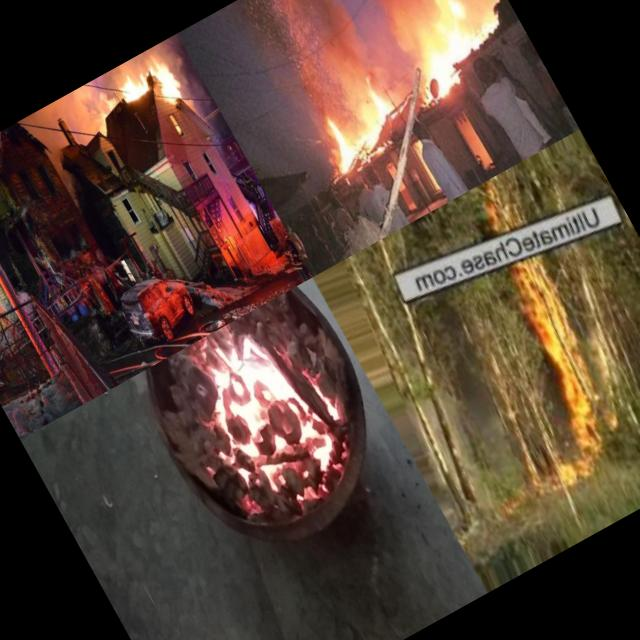fire: (160, 296, 374, 534), (460, 254, 640, 488), (427, 0, 499, 64), (304, 106, 364, 176), (412, 36, 467, 98), (143, 50, 190, 111), (110, 59, 156, 108), (356, 74, 398, 125), (350, 115, 387, 155)
smoke: (234, 0, 391, 132), (336, 0, 505, 58), (157, 34, 224, 130), (56, 77, 116, 131)
